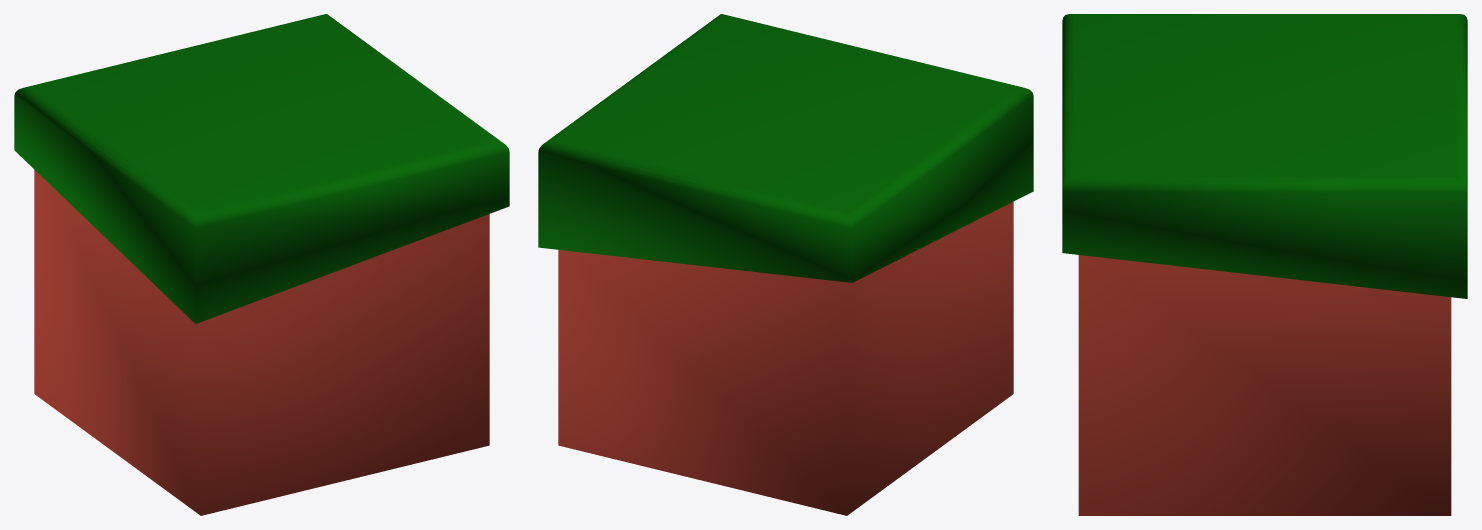
Rendered from floor.gltf.
3 views of the same model, side by side, from view 1: azimuth 30°, elevation 25°; view 2: azimuth 150°, elevation 25°; view 3: azimuth 270°, elevation 25° (orthographic). The views are drawn at different scales.
Visible parts, largest first — view 1: Cubo; view 2: Cubo; view 3: Cubo.
Part boxes in pixels (x1,y1,x2,y2): Cubo: (14, 14, 509, 515); Cubo: (538, 14, 1033, 515); Cubo: (1062, 14, 1467, 515).
Size of the model in its own units: 2.17 by 2.02 by 2.17.
1 material, 1 textured.
